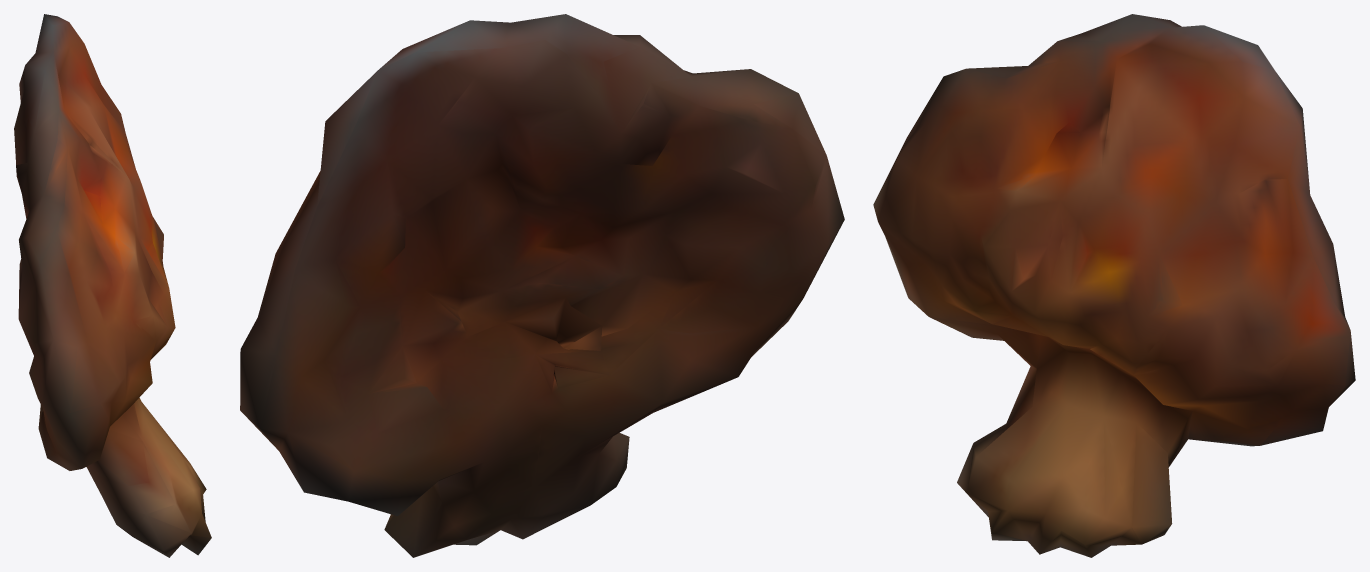
Rendered from ember_morel.glb.
3 views of the same model, side by side, from view 1: azimuth 30°, elevation 25°; view 2: azimuth 150°, elevation 25°; view 3: azimuth 270°, elevation 25° (orthographic). The views are drawn at different scales.
Visible parts, largest first — view 1: model; view 2: model; view 3: model.
Part boxes in pixels (x1=…): model: x1=14, y1=14, x2=211, y2=557; model: x1=240, y1=14, x2=844, y2=557; model: x1=873, y1=14, x2=1355, y2=557.
Bounding box in the file's own units: 0.2336 × 0.4001 × 0.3555.
Materials: 1 (1 with a texture image).
